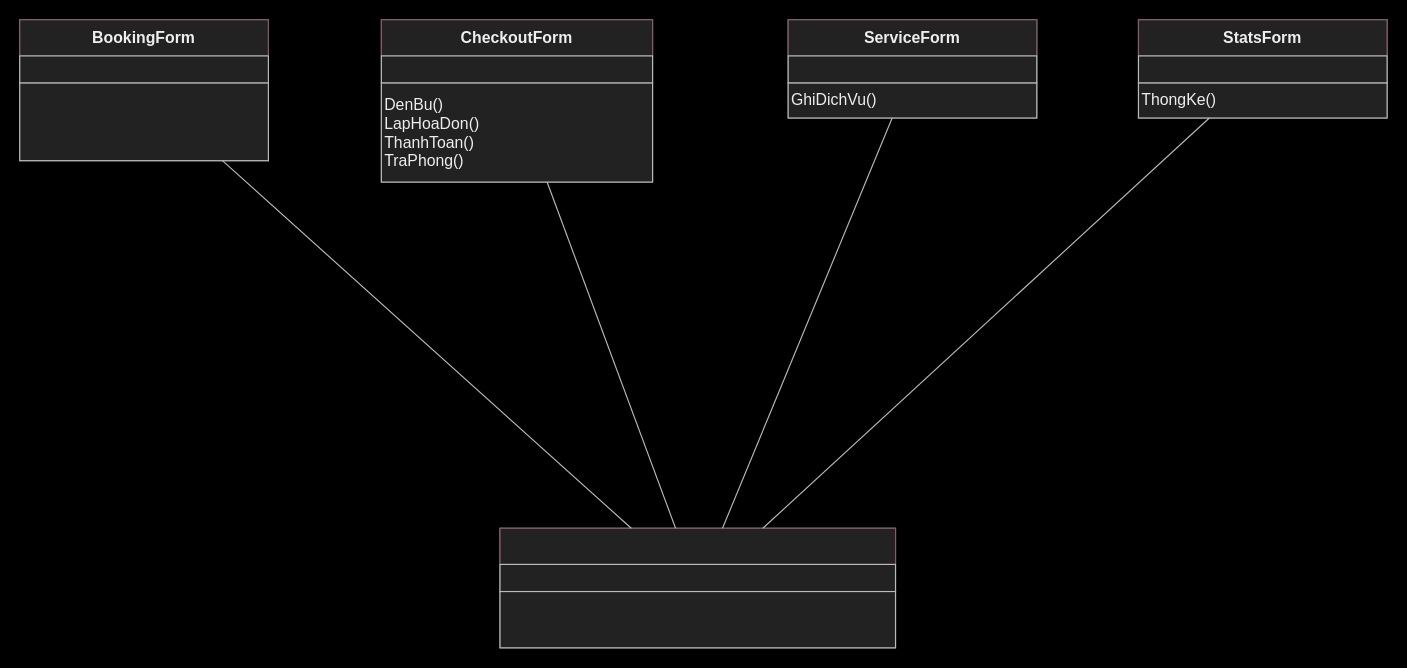
Image size: 1407x668. Some labels were removed from this diagram. Each missing label, with the centre of its shape:
DatPhong() ThemNguoi() NhanPhong(): the point at 143,121
Db: the point at 697,545
Query(sql, params): DataTable Run(proc, params): void: the point at 697,619
